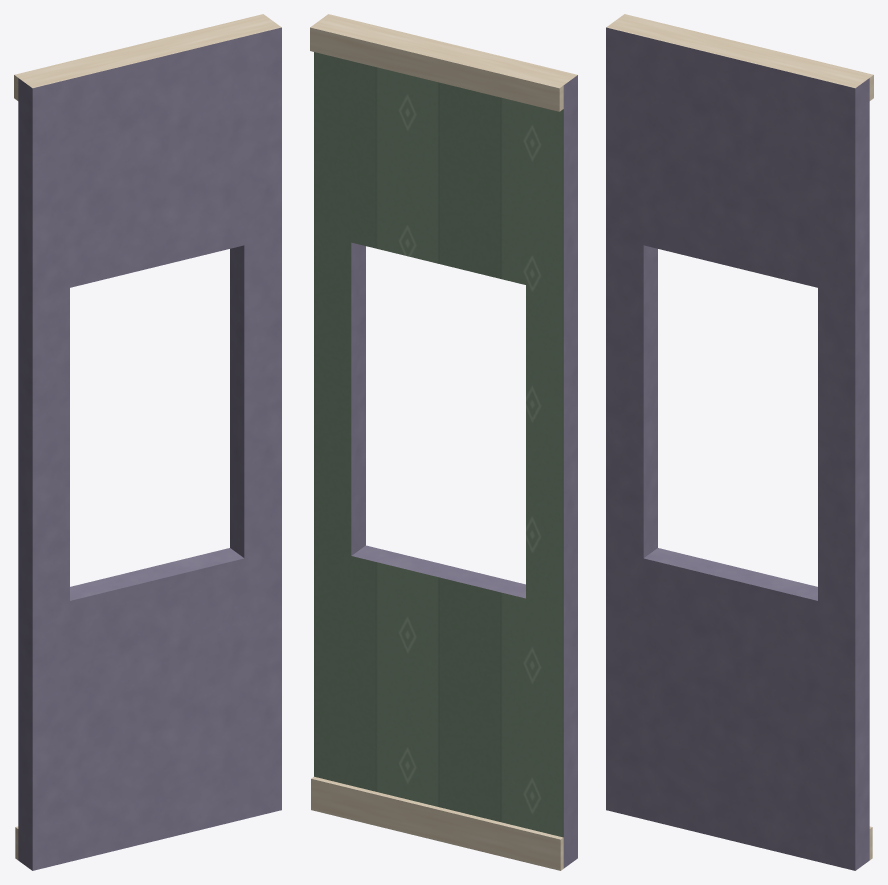
The model's file is SM_Wall_Window_1x3.fbx.
3 renders of one model, left to right at view 1: azimuth 30°, elevation 25°; view 2: azimuth 150°, elevation 25°; view 3: azimuth 330°, elevation 25°, orthographic.
Visible parts, largest first — view 1: SM_Wall_Window_1x3; view 2: SM_Wall_Window_1x3; view 3: SM_Wall_Window_1x3.
Part boxes in pixels (box(x1,y1,x2,y2)): SM_Wall_Window_1x3: box(14, 14, 281, 870); SM_Wall_Window_1x3: box(310, 14, 577, 870); SM_Wall_Window_1x3: box(606, 14, 873, 870).
Size of what is drawn, in the model's own units: 1 by 3 by 0.128.
3 materials, 3 textured.
